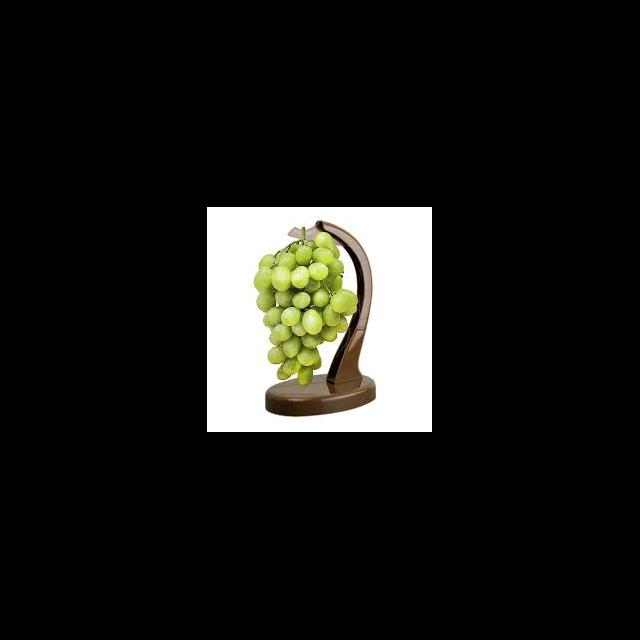grape: (254, 226, 358, 386)
